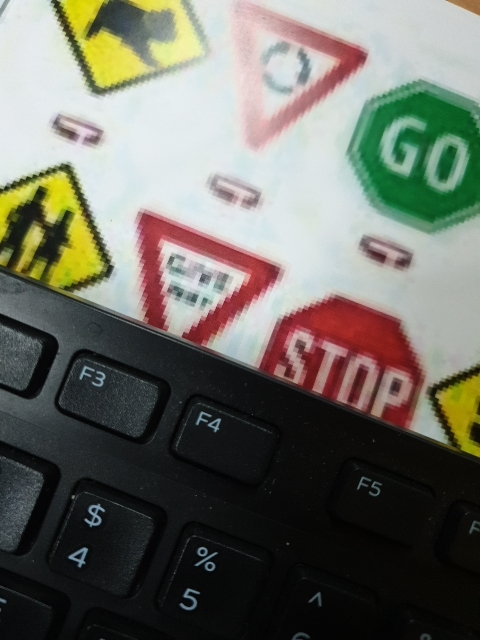giveway: (124, 208, 282, 356)
stop: (287, 290, 440, 444)
